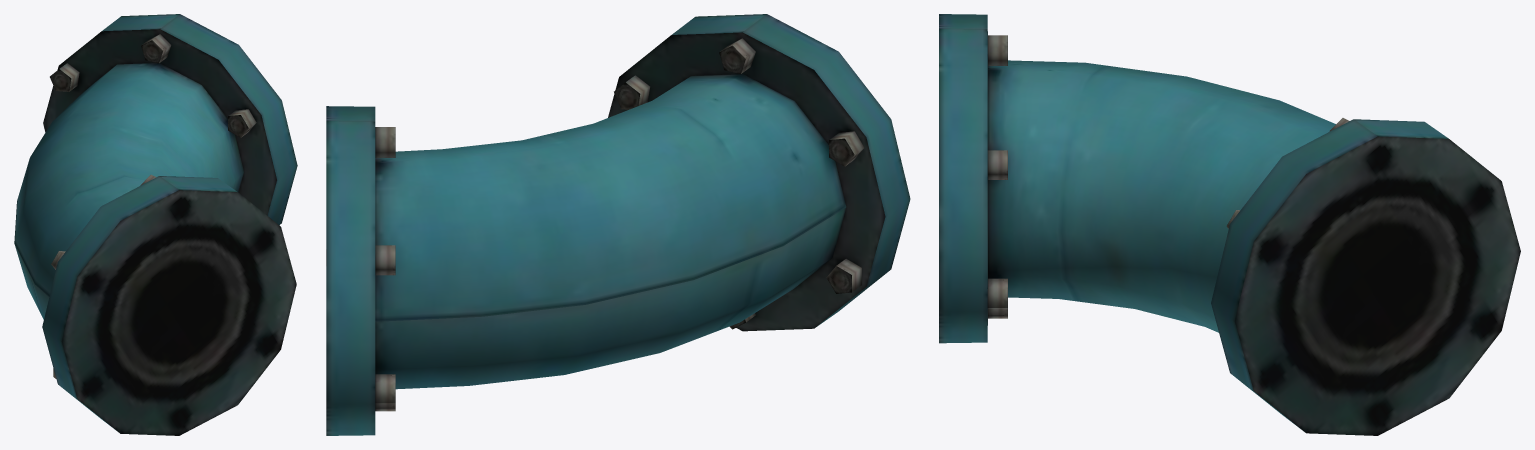
The picture shows the model from 3 angles, left to right: view 1: azimuth 30°, elevation 25°; view 2: azimuth 150°, elevation 25°; view 3: azimuth 270°, elevation 25°; orthographic projection. The views are drawn at different scales.
Parts seen in each view (by area): view 1: body0_model0_lod0_mesh0; view 2: body0_model0_lod0_mesh0; view 3: body0_model0_lod0_mesh0.
Boxes of the visible parts, x1,y1,x2,y2 form: body0_model0_lod0_mesh0: (14,14,297,435); body0_model0_lod0_mesh0: (326,14,910,435); body0_model0_lod0_mesh0: (939,14,1520,435).
Size of the model in its own units: 60.16 by 39.57 by 69.68.
Materials: 1 (1 with a texture image).
